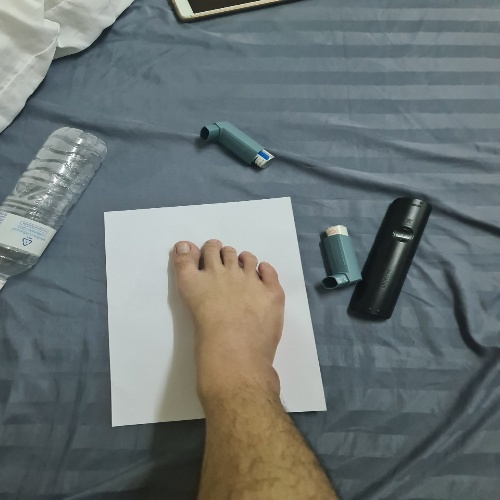Top_Foot: (83, 189, 340, 440)
